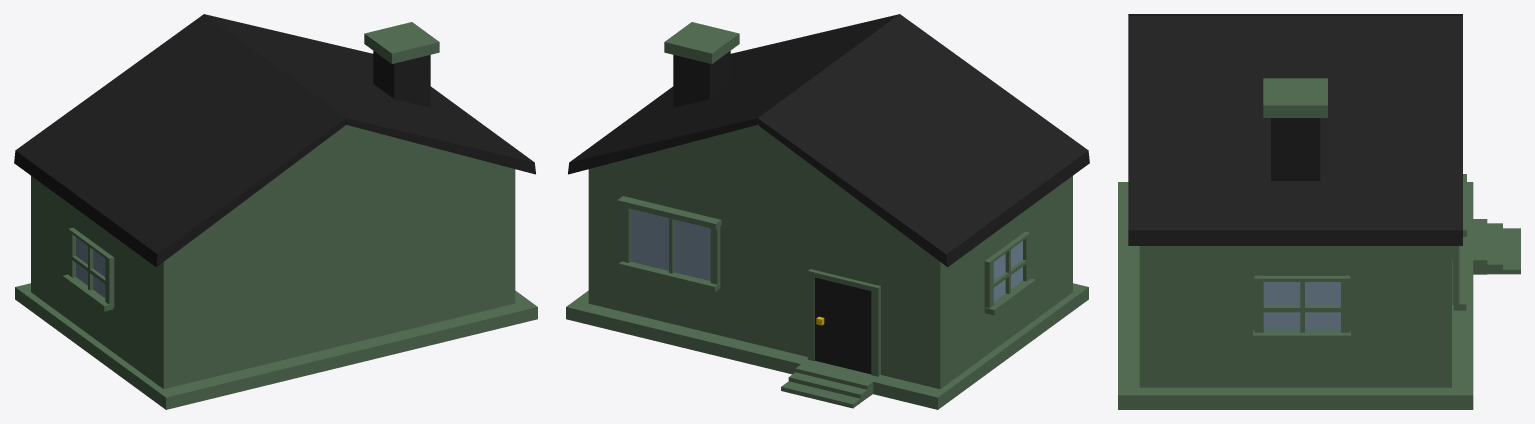
File: Long Black Roof House FBX.fbx
3 views of the same model, side by side, from view 1: azimuth 30°, elevation 25°; view 2: azimuth 150°, elevation 25°; view 3: azimuth 270°, elevation 25° (orthographic). The views are drawn at different scales.
Visible parts, largest first — view 1: pasted__pCube1; view 2: pasted__pCube1; view 3: pasted__pCube1.
Part boxes in pixels (x1=…): pasted__pCube1: x1=14, y1=14, x2=537, y2=409; pasted__pCube1: x1=566, y1=14, x2=1089, y2=409; pasted__pCube1: x1=1118, y1=14, x2=1520, y2=409.
Bounding box in the file's own units: 10.44 × 6.4 × 8.15.
